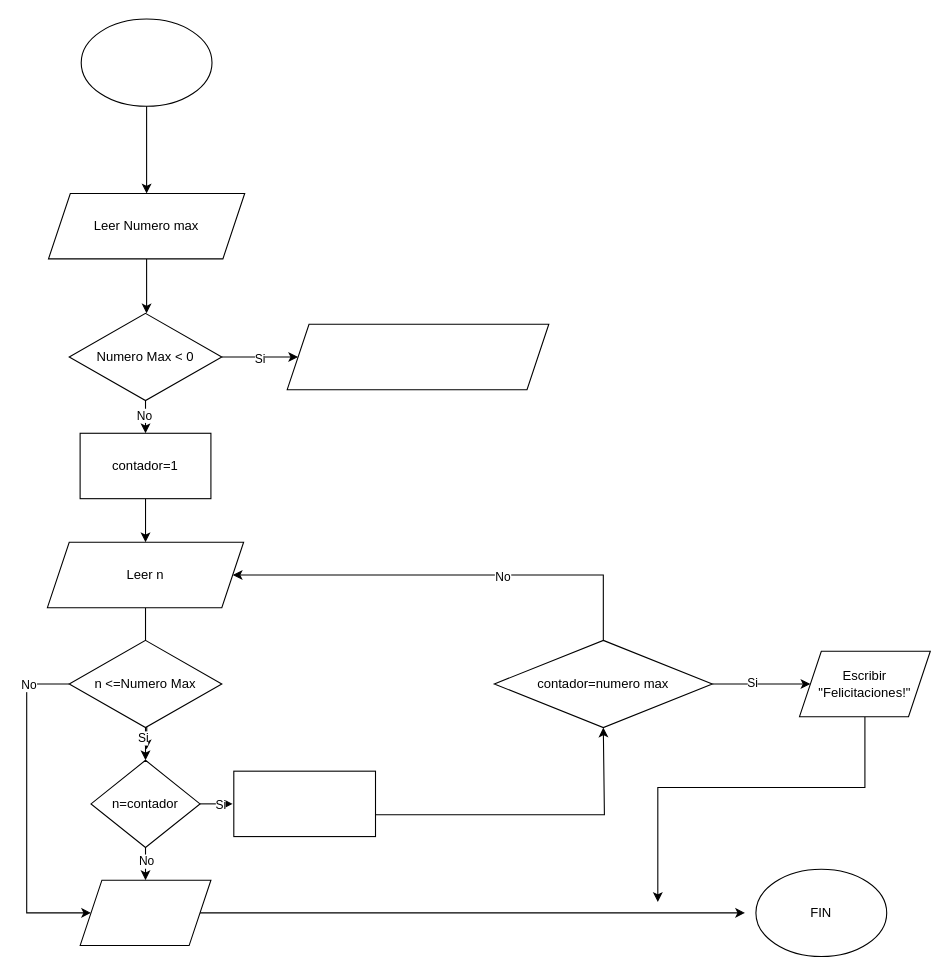
Some shapes in this 949 by 976 pixel diagram are drawn without their labels. The centre of each missing label's shape, as x and y in pixels:
contador=contador+1: (304,803)
Escribir "El numero ingresado no es correcto": (417,356)
Escribir "Error!": (145,912)
INICIO: (146,62)
